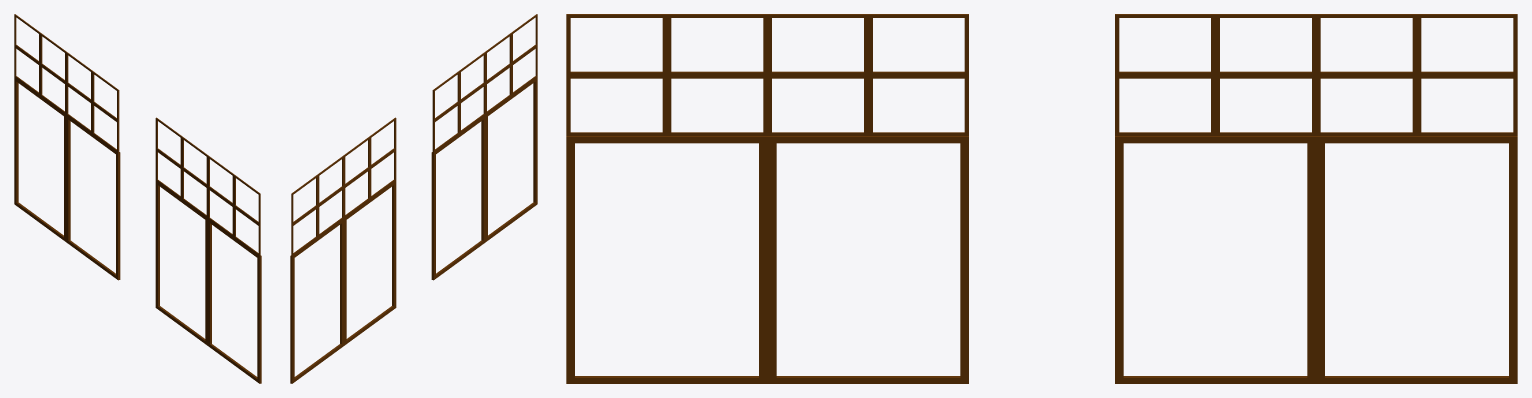
File: banyawindow_frame.obj
The picture shows the model from 3 angles, left to right: view 1: azimuth 30°, elevation 25°; view 2: azimuth 150°, elevation 25°; view 3: azimuth 270°, elevation 25°; orthographic projection. The views are drawn at different scales.
Visible parts, largest first — view 1: Mesh43 Group17 Group12 Model, Mesh13 Group6 Group1 Model, Mesh22 Group9 Group1 Model, Mesh52 Group20 Group12 Model, Mesh46 Group18 Group12 Model, Mesh16 Group7 Group1 Model, Mesh1 Group2 Group1 Model, Mesh31 Group13 Group12 Model, Mesh19 Group8 Group1 Model, Mesh40 Group16 Group12 Model, Mesh49 Group19 Group12 Model, Mesh34 Group14 Group12 Model (+8 smaller); view 2: Mesh22 Group9 Group1 Model, Mesh52 Group20 Group12 Model, Mesh13 Group6 Group1 Model, Mesh43 Group17 Group12 Model, Mesh10 Group5 Group1 Model, Mesh40 Group16 Group12 Model, Mesh25 Group10 Group1 Model, Mesh55 Group21 Group12 Model, Mesh4 Group3 Group1 Model, Mesh16 Group7 Group1 Model, Mesh34 Group14 Group12 Model, Mesh19 Group8 Group1 Model (+8 smaller); view 3: Mesh13 Group6 Group1 Model, Mesh52 Group20 Group12 Model, Mesh22 Group9 Group1 Model, Mesh43 Group17 Group12 Model, Mesh4 Group3 Group1 Model, Mesh49 Group19 Group12 Model, Mesh10 Group5 Group1 Model, Mesh16 Group7 Group1 Model, Mesh19 Group8 Group1 Model, Mesh34 Group14 Group12 Model, Mesh40 Group16 Group12 Model, Mesh46 Group18 Group12 Model (+8 smaller).
Boxes of the visible parts, x1=… form: Mesh43 Group17 Group12 Model: x1=207, y1=219, x2=261, y2=383; Mesh13 Group6 Group1 Model: x1=66, y1=115, x2=120, y2=280; Mesh22 Group9 Group1 Model: x1=14, y1=77, x2=66, y2=241; Mesh52 Group20 Group12 Model: x1=155, y1=180, x2=207, y2=345; Mesh46 Group18 Group12 Model: x1=233, y1=174, x2=260, y2=224; Mesh16 Group7 Group1 Model: x1=92, y1=71, x2=119, y2=121; Mesh1 Group2 Group1 Model: x1=92, y1=103, x2=119, y2=152; Mesh31 Group13 Group12 Model: x1=233, y1=206, x2=260, y2=256; Mesh19 Group8 Group1 Model: x1=40, y1=33, x2=66, y2=83; Mesh40 Group16 Group12 Model: x1=155, y1=117, x2=182, y2=167; Mesh49 Group19 Group12 Model: x1=181, y1=136, x2=208, y2=186; Mesh34 Group14 Group12 Model: x1=207, y1=155, x2=234, y2=205; Mesh22 Group9 Group1 Model: x1=290, y1=219, x2=344, y2=383; Mesh52 Group20 Group12 Model: x1=431, y1=115, x2=485, y2=280; Mesh13 Group6 Group1 Model: x1=344, y1=180, x2=396, y2=345; Mesh43 Group17 Group12 Model: x1=485, y1=77, x2=537, y2=241; Mesh10 Group5 Group1 Model: x1=291, y1=174, x2=318, y2=224; Mesh40 Group16 Group12 Model: x1=432, y1=71, x2=459, y2=121; Mesh25 Group10 Group1 Model: x1=291, y1=206, x2=318, y2=256; Mesh55 Group21 Group12 Model: x1=432, y1=103, x2=459, y2=152; Mesh4 Group3 Group1 Model: x1=343, y1=136, x2=370, y2=186; Mesh16 Group7 Group1 Model: x1=369, y1=117, x2=396, y2=167; Mesh34 Group14 Group12 Model: x1=485, y1=33, x2=511, y2=83; Mesh19 Group8 Group1 Model: x1=317, y1=155, x2=344, y2=205; Mesh13 Group6 Group1 Model: x1=1115, y1=136, x2=1316, y2=383; Mesh52 Group20 Group12 Model: x1=767, y1=136, x2=968, y2=383; Mesh22 Group9 Group1 Model: x1=1316, y1=136, x2=1517, y2=383; Mesh43 Group17 Group12 Model: x1=566, y1=136, x2=767, y2=383; Mesh4 Group3 Group1 Model: x1=1215, y1=14, x2=1316, y2=75; Mesh49 Group19 Group12 Model: x1=767, y1=14, x2=868, y2=75; Mesh10 Group5 Group1 Model: x1=1417, y1=14, x2=1517, y2=75; Mesh16 Group7 Group1 Model: x1=1115, y1=14, x2=1215, y2=75; Mesh19 Group8 Group1 Model: x1=1316, y1=14, x2=1416, y2=75; Mesh34 Group14 Group12 Model: x1=667, y1=14, x2=767, y2=75; Mesh40 Group16 Group12 Model: x1=868, y1=14, x2=968, y2=75; Mesh46 Group18 Group12 Model: x1=566, y1=14, x2=666, y2=75.
Bounding box in the file's own units: 0.0223 × 1.96 × 4.6.
